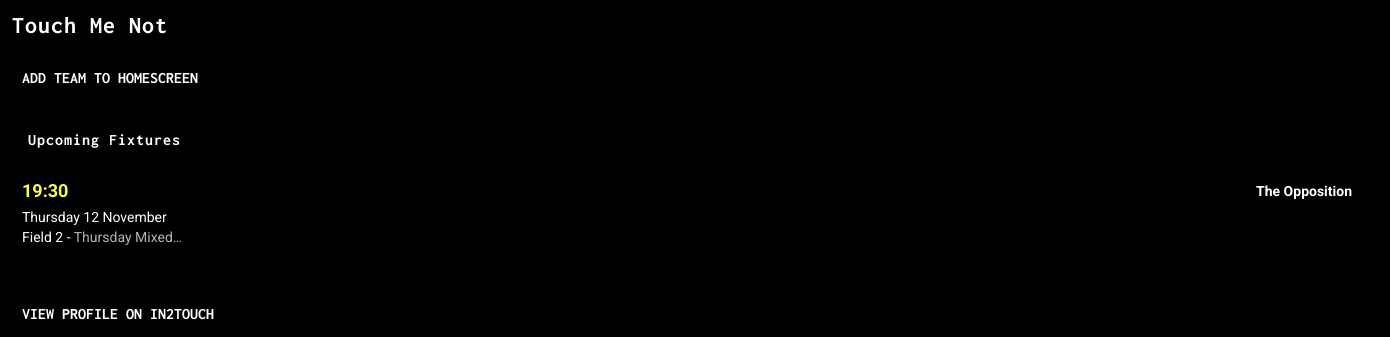
Scenario: TeamPage › loads an unsaved team from the database and can add it
Expected: the heading "Touch Me Not" is shown, [12,12,168,38]
Expected: the heading "Upcoming Fixtures" is shown, [28,131,181,148]
Click the button "Add team to homescreen": (110, 78) [12,54,1378,101]
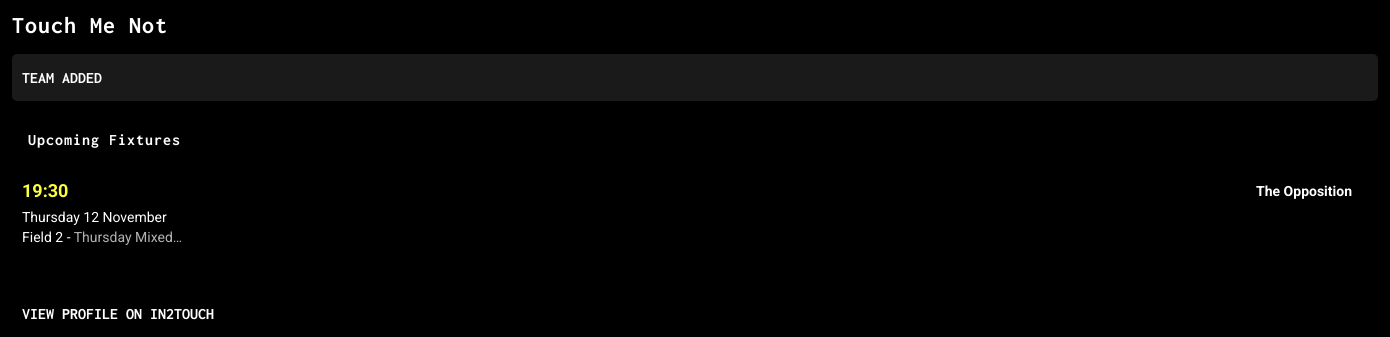
Now the text "Team added" is shown, box [12,54,1378,101]
